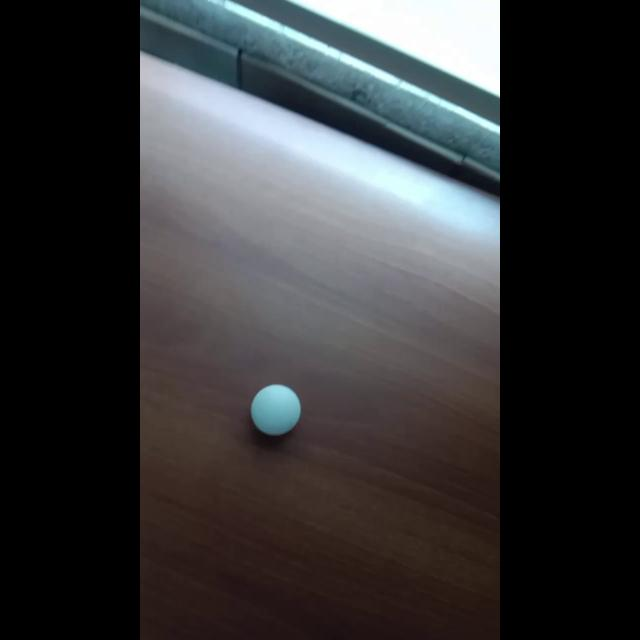white ball: (250, 384, 302, 436)
